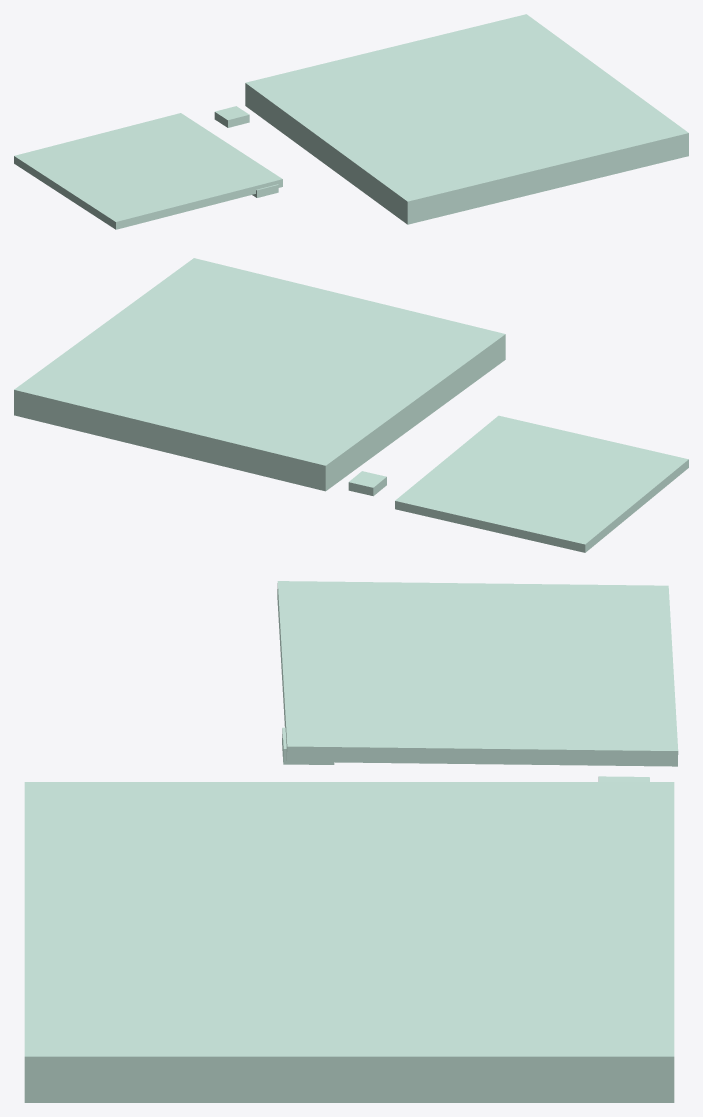
3 views of the same model, one above another, from view 1: azimuth 30°, elevation 25°; view 2: azimuth 150°, elevation 25°; view 3: azimuth 270°, elevation 25° (orthographic). The views are drawn at different scales.
Visible parts, largest first — view 1: Renderer Node; view 2: Renderer Node; view 3: Renderer Node.
Part boxes in pixels (<box>): Renderer Node: <box>14,14,688,229</box>; Renderer Node: <box>14,258,688,552</box>; Renderer Node: <box>24,581,678,1102</box>.
Bounding box in the file's own units: 2.73 × 0.1172 × 1.5.
